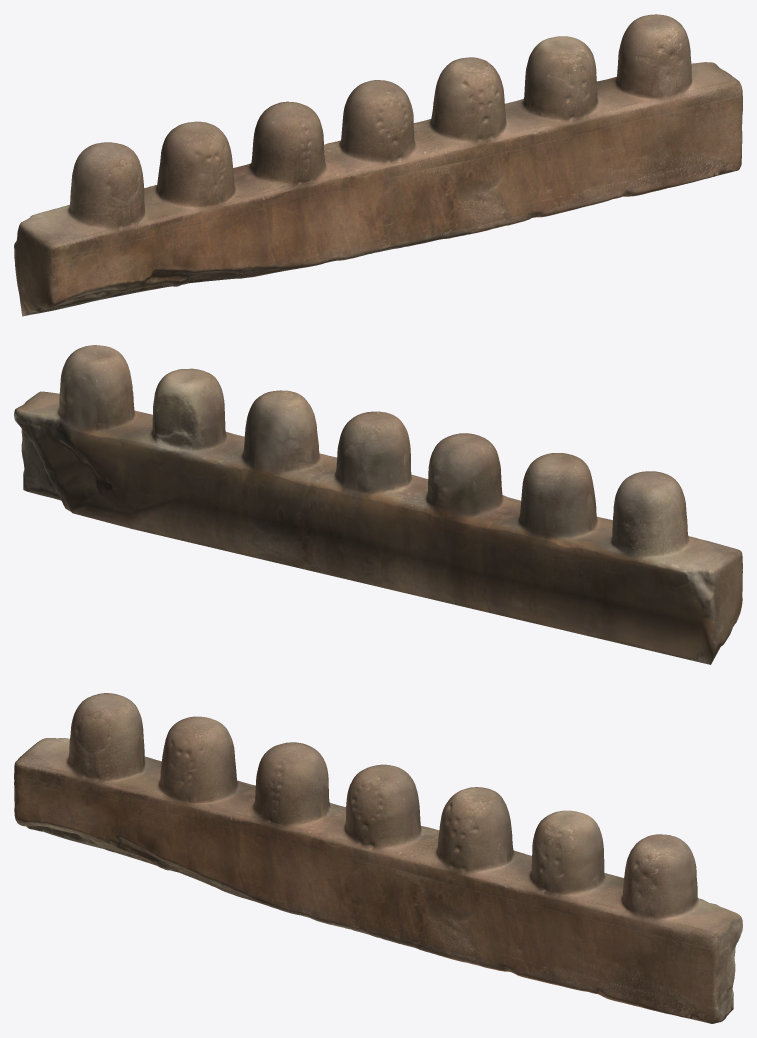
Rendered from 7_nhóm 7 linga_final.glb.
3 views of the same model, one above another, from view 1: azimuth 30°, elevation 25°; view 2: azimuth 150°, elevation 25°; view 3: azimuth 330°, elevation 25° (orthographic).
Bounding box in the file's own units: 2.41 × 0.5334 × 0.24.
Materials: 1 (1 with a texture image).
